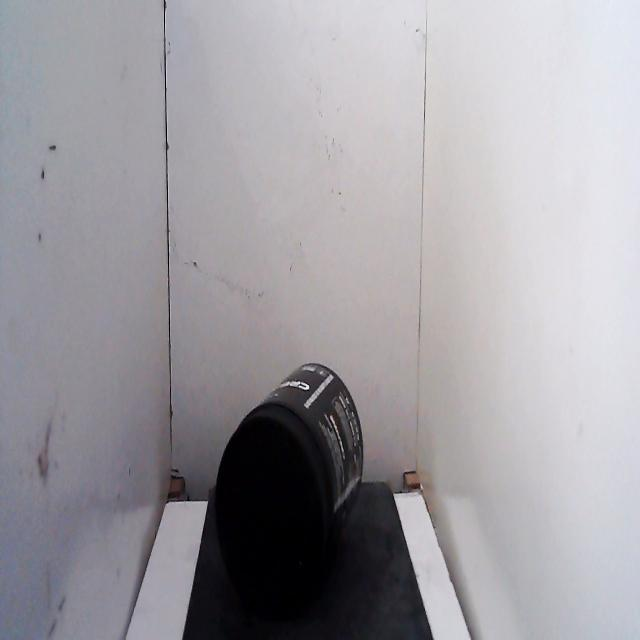plastico: (208, 354, 368, 625)
